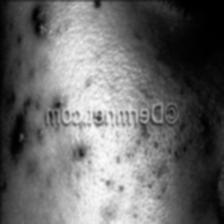Non-Cancerous Skin Condition: (70, 135, 180, 224), (4, 95, 36, 167), (27, 0, 60, 43)
